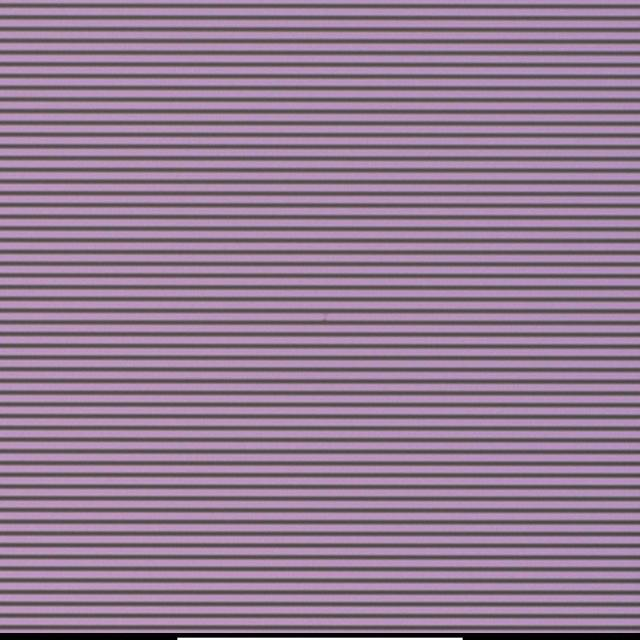nonvisual: (320, 308, 329, 325)
